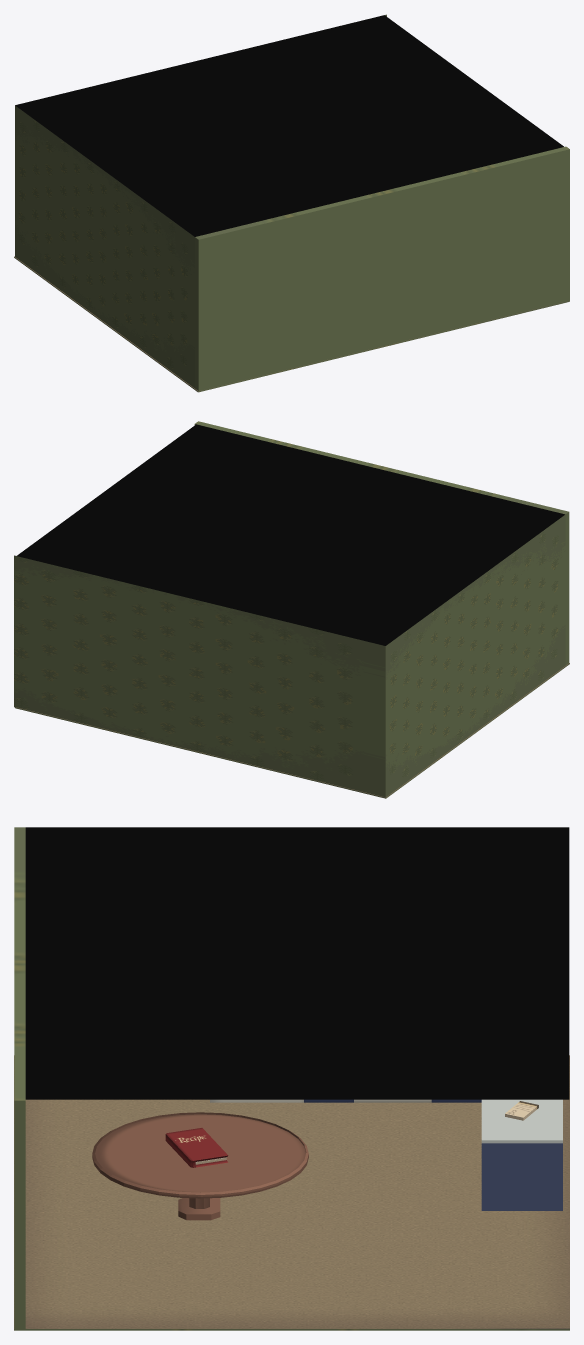
File: kitchennote&board.glb
3 renders of one model, top to bottom at view 1: azimuth 30°, elevation 25°; view 2: azimuth 150°, elevation 25°; view 3: azimuth 270°, elevation 25°, orthographic. The views are drawn at different scales.
Parts seen in each view (by area): view 1: room; view 2: room; view 3: room, table, shelf, book.
Part boxes in pixels (x1,y1,x2,y2): room: (14,14,569,392); room: (14,421,569,798); room: (14,827,569,1330); table: (92,1112,308,1220); shelf: (210,1099,562,1210); book: (165,1128,228,1167).
Bounding box in the file's own units: 45.67 × 17.85 × 39.09.
14 materials, 10 textured.
